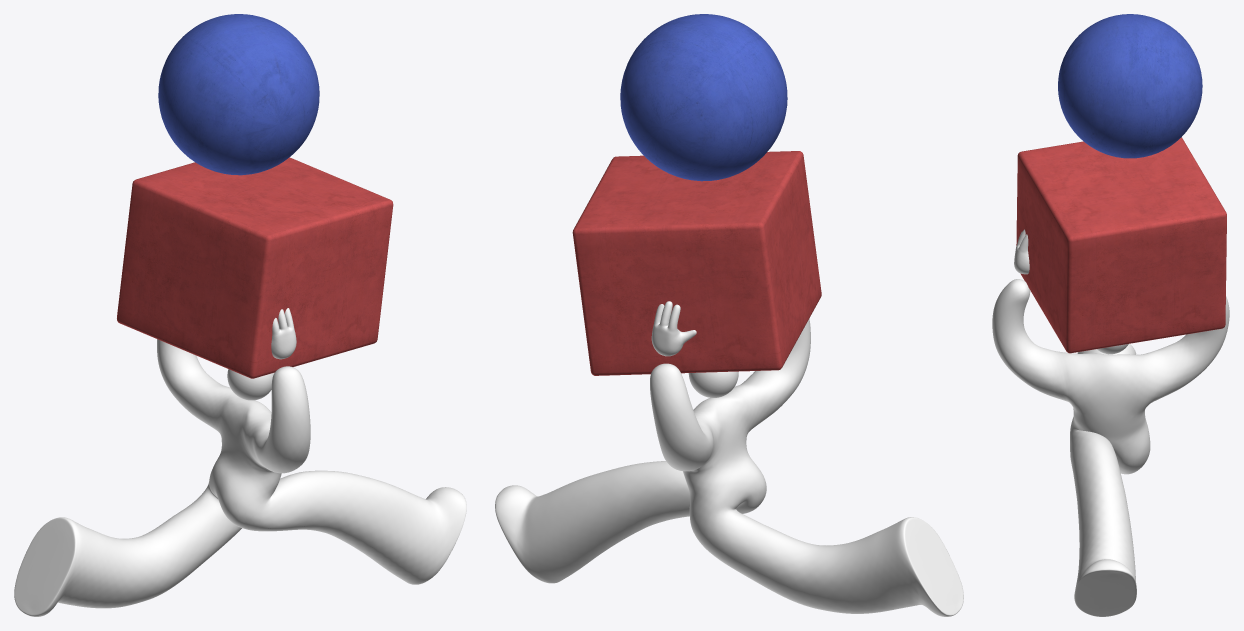
Rendered from K1-man4.gltf.
3 views of the same model, side by side, from view 1: azimuth 30°, elevation 25°; view 2: azimuth 150°, elevation 25°; view 3: azimuth 270°, elevation 25° (orthographic). The views are drawn at different scales.
Visible parts, largest first — view 1: Cube.001, k1-man4, Sphere.001; view 2: k1-man4, Cube.001, Sphere.001; view 3: Cube.001, k1-man4, Sphere.001.
Boxes of the visible parts, box(x1,y1,x2,y2) form: Cube.001: box(117, 157, 393, 378); k1-man4: box(14, 308, 466, 616); Sphere.001: box(158, 14, 319, 175); k1-man4: box(495, 301, 963, 616); Cube.001: box(572, 151, 821, 375); Sphere.001: box(620, 14, 787, 181); Cube.001: box(1016, 137, 1226, 353); k1-man4: box(992, 229, 1229, 616); Sphere.001: box(1058, 14, 1202, 158).
Bounding box in the file's own units: 43.13 × 55.39 × 22.58.
3 materials, 3 textured.
